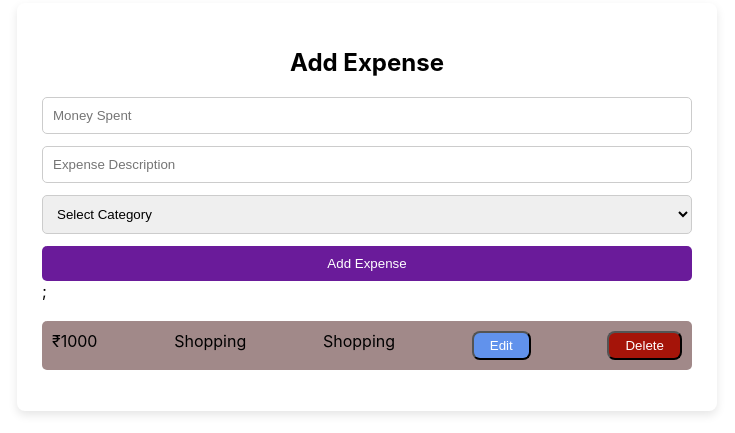
Test: Async test cases › Clicking on edit fills form data
Click the button "Edit".
click(501, 345)  # box [472,331,531,360]
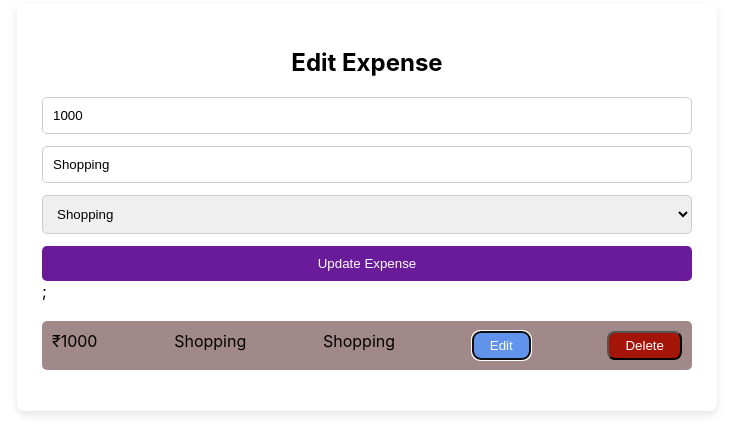
expect the number field showing "1000" is shown: met, box [42,97,692,134]
expect the field showing "Shopping" is shown: met, box [42,146,692,183]
